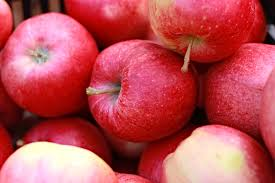apple: (91, 41, 196, 137), (3, 14, 98, 114), (159, 127, 275, 182), (146, 5, 253, 63), (205, 43, 271, 130), (4, 142, 115, 183)
